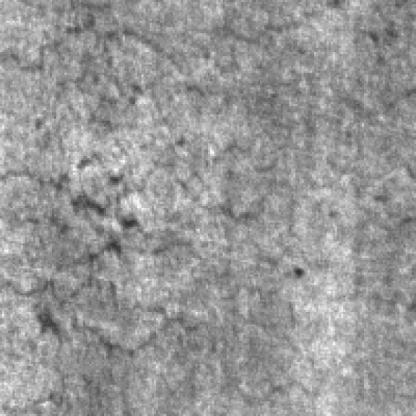crazing: (2, 164, 262, 368), (8, 6, 348, 125)
